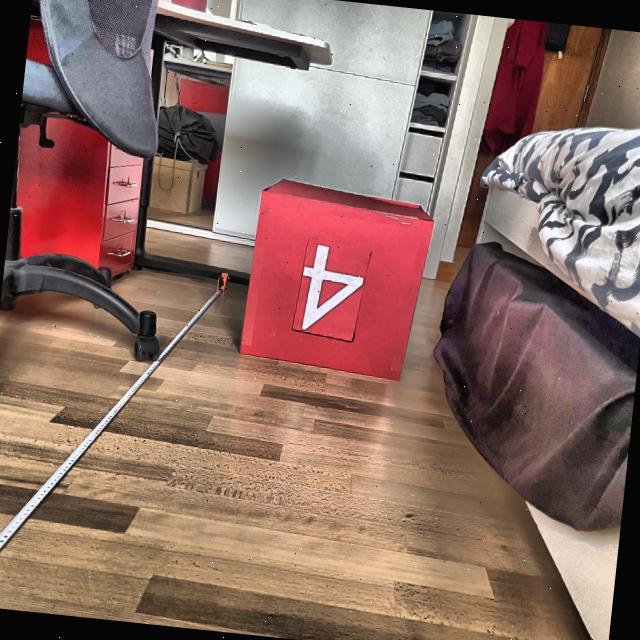four: (294, 242, 368, 337)
red box: (240, 176, 434, 382)
